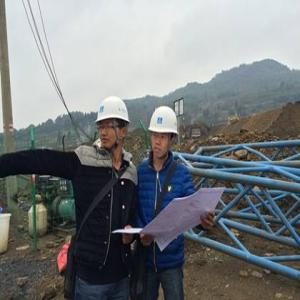white: (95, 95, 130, 151), (148, 106, 177, 158)
